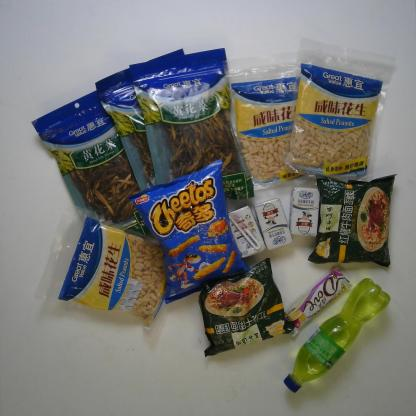Chocolate: (282, 264, 353, 338)
Dried Food: (128, 46, 255, 201), (30, 89, 154, 238), (94, 46, 188, 193)
Dried Fruit: (35, 202, 173, 335), (284, 36, 397, 183), (222, 52, 311, 193)
Drink: (281, 276, 391, 395)
Instant Noodles: (197, 256, 295, 359), (307, 172, 398, 270)
Milk: (253, 197, 294, 251), (228, 204, 266, 260), (288, 185, 320, 238)
Puffed Food: (125, 157, 254, 306)
